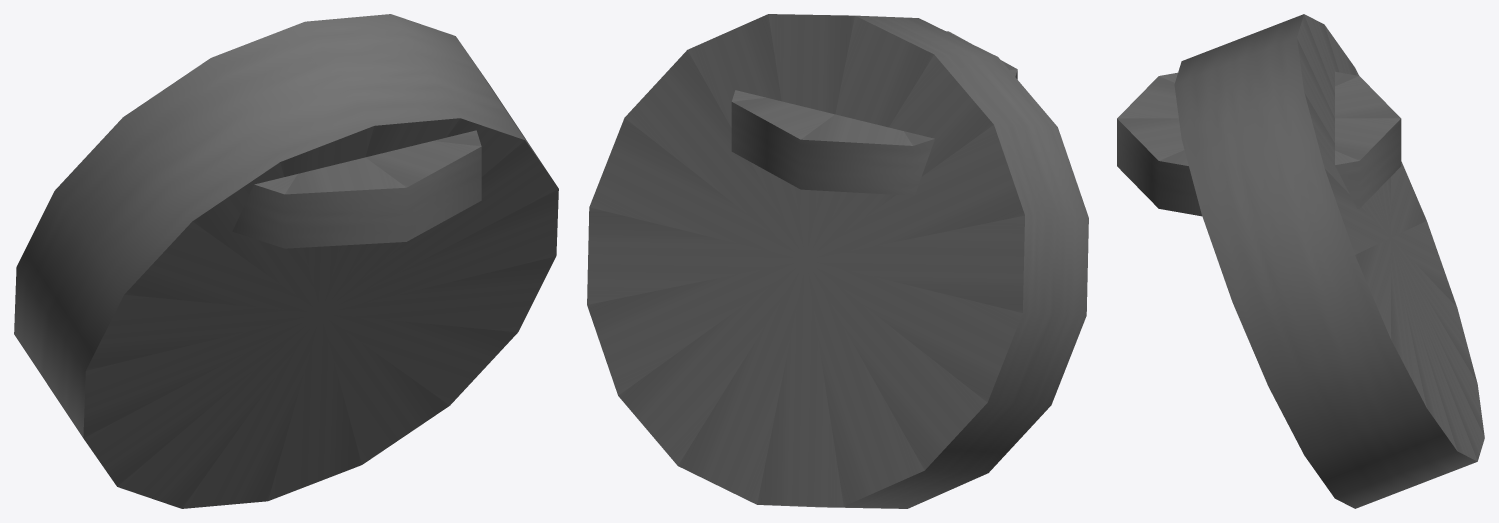
Rendered from mastarmcurve_4x1_c0_up.obj.
3 views of the same model, side by side, from view 1: azimuth 30°, elevation 25°; view 2: azimuth 150°, elevation 25°; view 3: azimuth 270°, elevation 25° (orthographic). The views are drawn at different scales.
Parts seen in each view (by area): view 1: mastarm_4x1_c0_up; view 2: mastarm_4x1_c0_up; view 3: mastarm_4x1_c0_up.
Boxes of the visible parts, box(x1,y1,x2,y2) form: mastarm_4x1_c0_up: box(14, 14, 558, 508); mastarm_4x1_c0_up: box(587, 14, 1088, 508); mastarm_4x1_c0_up: box(1117, 14, 1484, 508).
Size of the model in its own units: 0.6763 by 0.6957 by 0.5179.
